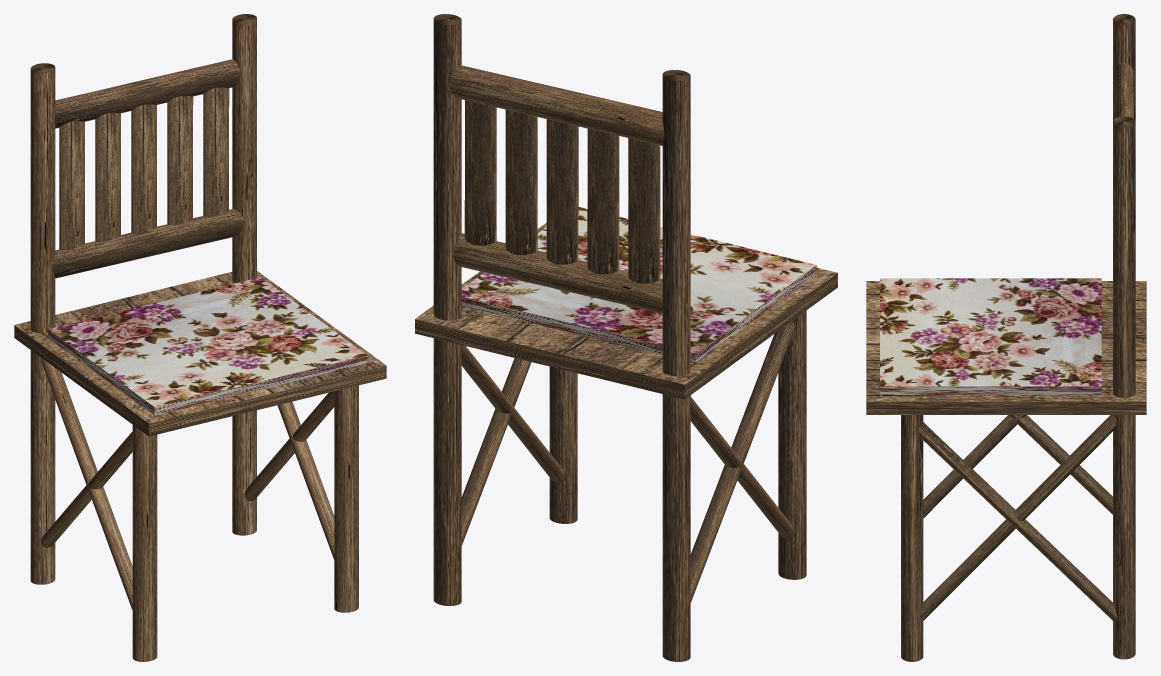
File: stoeltje.glb
3 renders of one model, left to right at view 1: azimuth 30°, elevation 25°; view 2: azimuth 150°, elevation 25°; view 3: azimuth 270°, elevation 25°, orthographic. The views are drawn at different scales.
Visible parts, largest first — view 1: Cube.001, Cylinder.011, Cube.002, Cylinder.009, Cylinder.016, Cylinder.008, Cylinder.015, Cylinder.004, Cylinder.001, Cylinder.003, Cylinder.012, Cylinder.014 (+5 smaller); view 2: Cube.001, Cylinder.011, Cylinder.009, Cube.002, Cylinder.004, Cylinder.016, Cylinder.015, Cylinder.005, Cylinder.010, Cylinder.014, Cylinder.013, Cylinder.012 (+5 smaller); view 3: Cube.001, Cylinder.009, Cube.002, Cylinder.008, Cylinder.006, Cylinder.007, Cylinder.001, Cylinder.005, Cylinder.011, Cylinder.004.
Part boxes in pixels (x1=…): Cube.001: x1=48, y1=277, x2=367, y2=415; Cylinder.011: x1=30, y1=63, x2=55, y2=584; Cube.002: x1=14, y1=271, x2=386, y2=436; Cylinder.009: x1=232, y1=14, x2=256, y2=535; Cylinder.016: x1=132, y1=425, x2=157, y2=661; Cylinder.008: x1=334, y1=385, x2=358, y2=612; Cylinder.015: x1=42, y1=209, x2=244, y2=278; Cylinder.004: x1=54, y1=59, x2=240, y2=128; Cylinder.001: x1=41, y1=358, x2=132, y2=610; Cylinder.003: x1=203, y1=87, x2=229, y2=216; Cylinder.012: x1=167, y1=96, x2=193, y2=225; Cylinder.014: x1=131, y1=104, x2=156, y2=233; Cube.001: x1=461, y1=207, x2=816, y2=362; Cylinder.011: x1=662, y1=70, x2=690, y2=661; Cylinder.009: x1=433, y1=14, x2=461, y2=605; Cube.002: x1=415, y1=223, x2=837, y2=399; Cylinder.004: x1=448, y1=65, x2=664, y2=145; Cylinder.016: x1=778, y1=310, x2=806, y2=579; Cylinder.015: x1=453, y1=233, x2=662, y2=313; Cylinder.005: x1=690, y1=322, x2=794, y2=602; Cylinder.010: x1=628, y1=138, x2=660, y2=283; Cylinder.014: x1=546, y1=119, x2=578, y2=264; Cylinder.013: x1=587, y1=128, x2=619, y2=274; Cylinder.012: x1=505, y1=109, x2=537, y2=254; Cube.001: x1=880, y1=278, x2=1101, y2=394; Cylinder.009: x1=1113, y1=116, x2=1135, y2=659; Cube.002: x1=866, y1=281, x2=1146, y2=414; Cylinder.008: x1=901, y1=415, x2=923, y2=661; Cylinder.006: x1=919, y1=422, x2=1117, y2=622; Cylinder.007: x1=920, y1=415, x2=1116, y2=620; Cylinder.001: x1=923, y1=415, x2=1026, y2=518; Cylinder.005: x1=1008, y1=415, x2=1112, y2=514; Cylinder.011: x1=1113, y1=14, x2=1135, y2=121; Cylinder.004: x1=1116, y1=62, x2=1133, y2=118.
Bounding box in the file's own units: 0.6602 × 1.36 × 0.6485.
3 materials, 2 textured.
